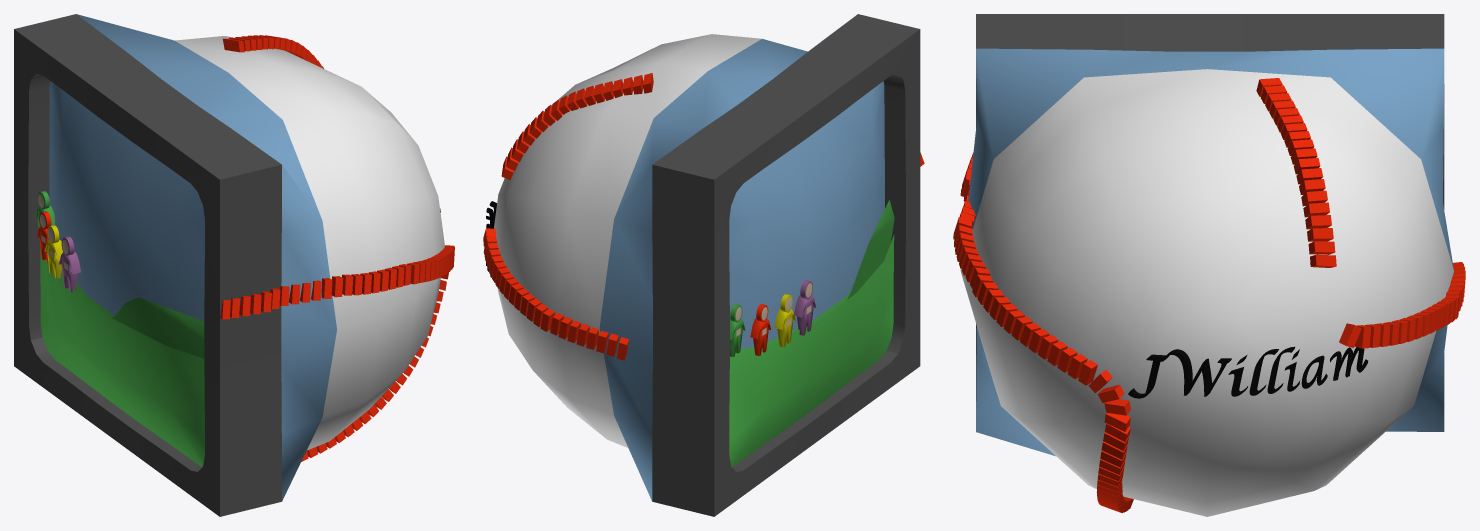
File: Tv_Ball.fbx
3 views of the same model, side by side, from view 1: azimuth 30°, elevation 25°; view 2: azimuth 150°, elevation 25°; view 3: azimuth 270°, elevation 25° (orthographic). The views are drawn at different scales.
Visible parts, largest first — view 1: Tv_Ball, fore_ground, Stiching, Hill, PurpleTubi, YellowTubi; view 2: Tv_Ball, fore_ground, Stiching, Hill, PurpleTubi, YellowTubi, RedTubi, GreenTubi; view 3: Tv_Ball, Stiching.
Boxes of the visible parts, x1,y1,x2,y2 form: Tv_Ball: [14, 14, 444, 516]; fore_ground: [40, 245, 204, 467]; Stiching: [220, 35, 454, 461]; Hill: [112, 297, 204, 358]; PurpleTubi: [59, 236, 80, 292]; YellowTubi: [44, 225, 62, 278]; Tv_Ball: [494, 14, 920, 516]; fore_ground: [729, 234, 894, 467]; Stiching: [483, 73, 924, 360]; Hill: [847, 200, 894, 299]; PurpleTubi: [794, 280, 815, 335]; YellowTubi: [774, 294, 795, 347]; RedTubi: [750, 304, 770, 355]; GreenTubi: [730, 304, 745, 356]; Tv_Ball: [960, 14, 1453, 516]; Stiching: [953, 78, 1465, 512].
Bounding box in the file's own units: 73.61 × 82.04 × 87.9.
